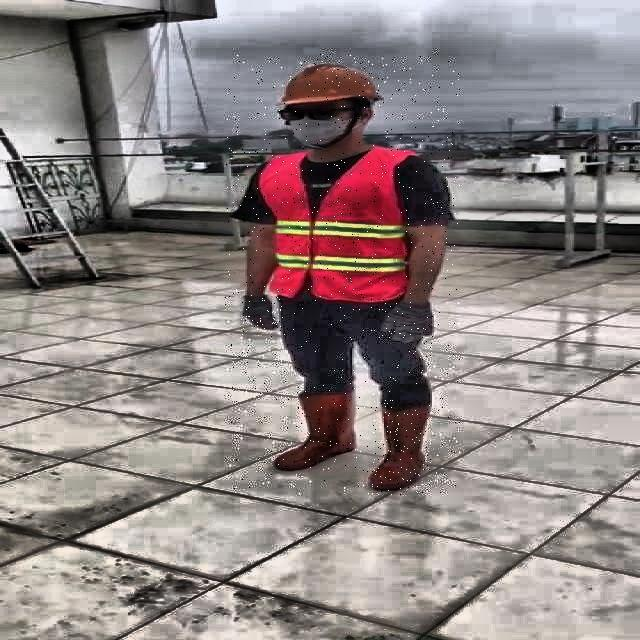safety_helmet: (273, 61, 381, 108)
safety_jacket: (256, 149, 414, 304)
